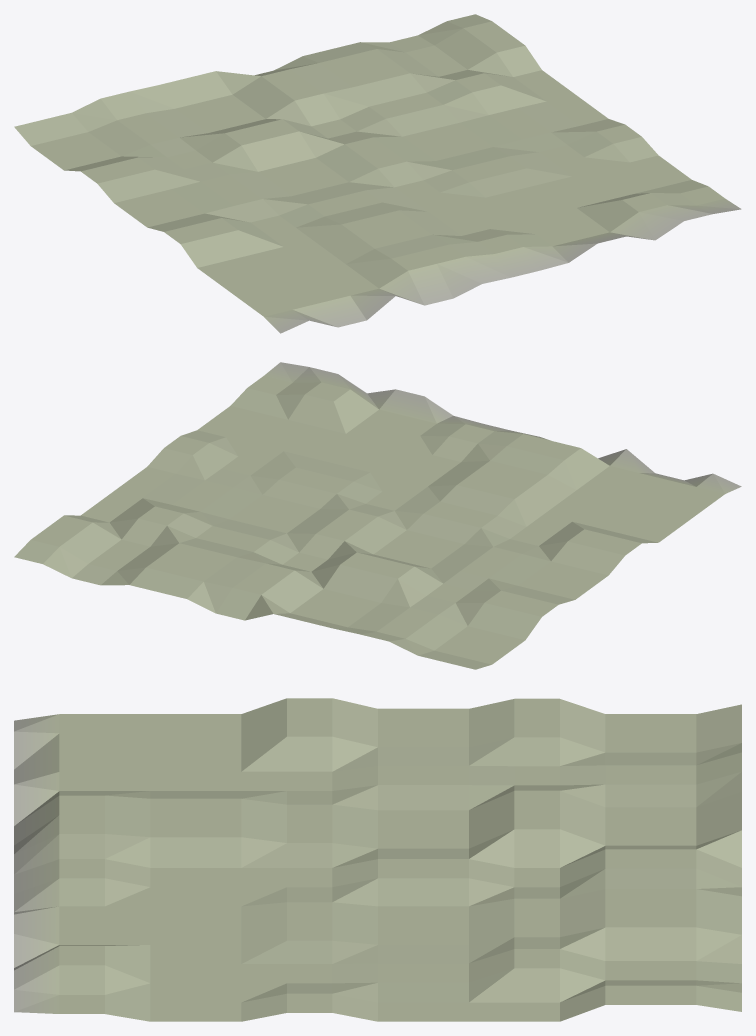
3 views of the same model, one above another, from view 1: azimuth 30°, elevation 25°; view 2: azimuth 150°, elevation 25°; view 3: azimuth 270°, elevation 25° (orthographic). The views are drawn at different scales.
Size of the model in its own units: 32 by 1.78 by 32.
